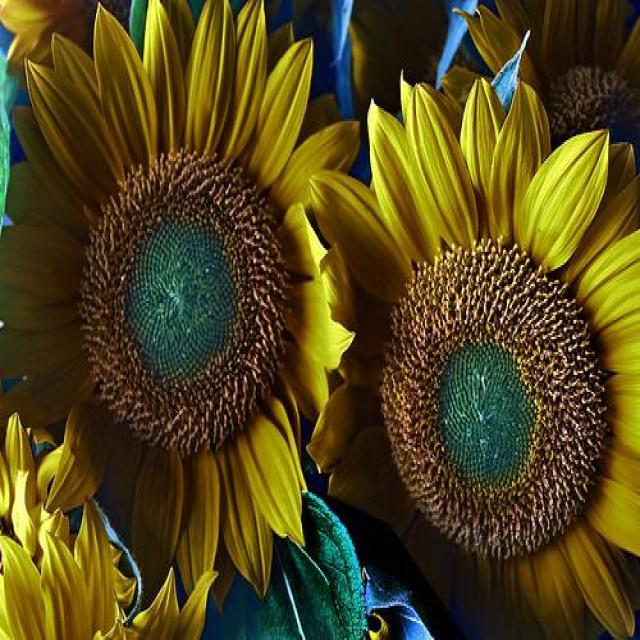sunflower: (3, 0, 361, 608), (305, 75, 639, 640), (0, 498, 218, 640), (443, 1, 640, 150), (2, 410, 79, 532)
